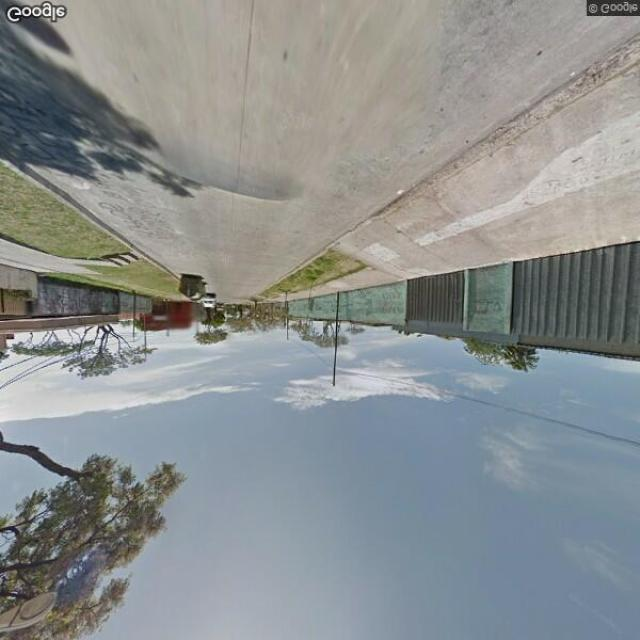garbage container: (170, 271, 216, 308)
